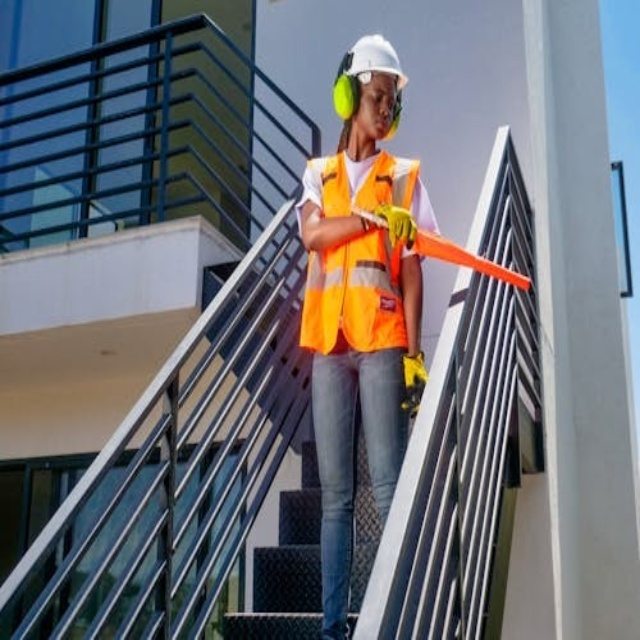Guantes: (373, 201, 417, 250), (400, 350, 428, 414)
Sin_gafas: (369, 84, 398, 109)
Sin_mascara: (369, 114, 390, 133)
